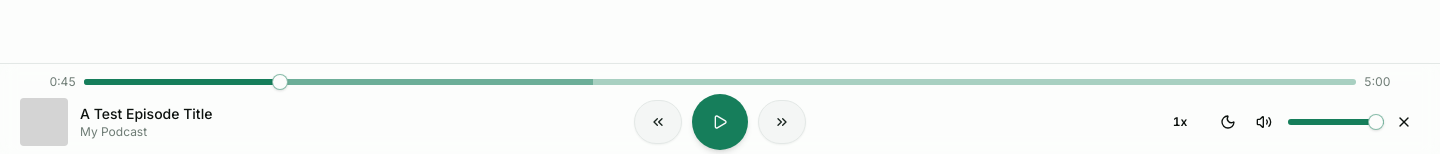
Test case: PlayerBar › Skip flash lifecycle › clears pending flash when the player becomes invisible
Click the button named "Skip forward 30 seconds" at (782, 122), box [758, 100, 806, 144]
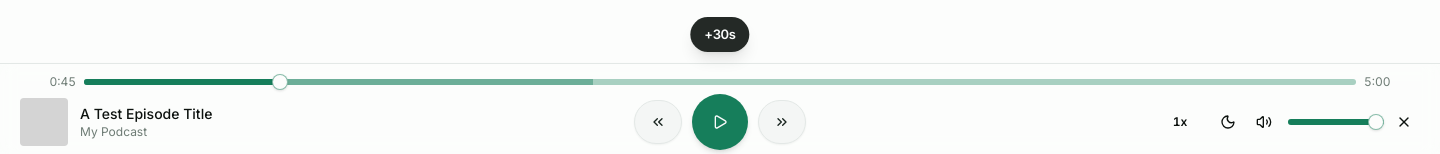
Check: the text "+30s" is shown, box [690, 16, 750, 52]
